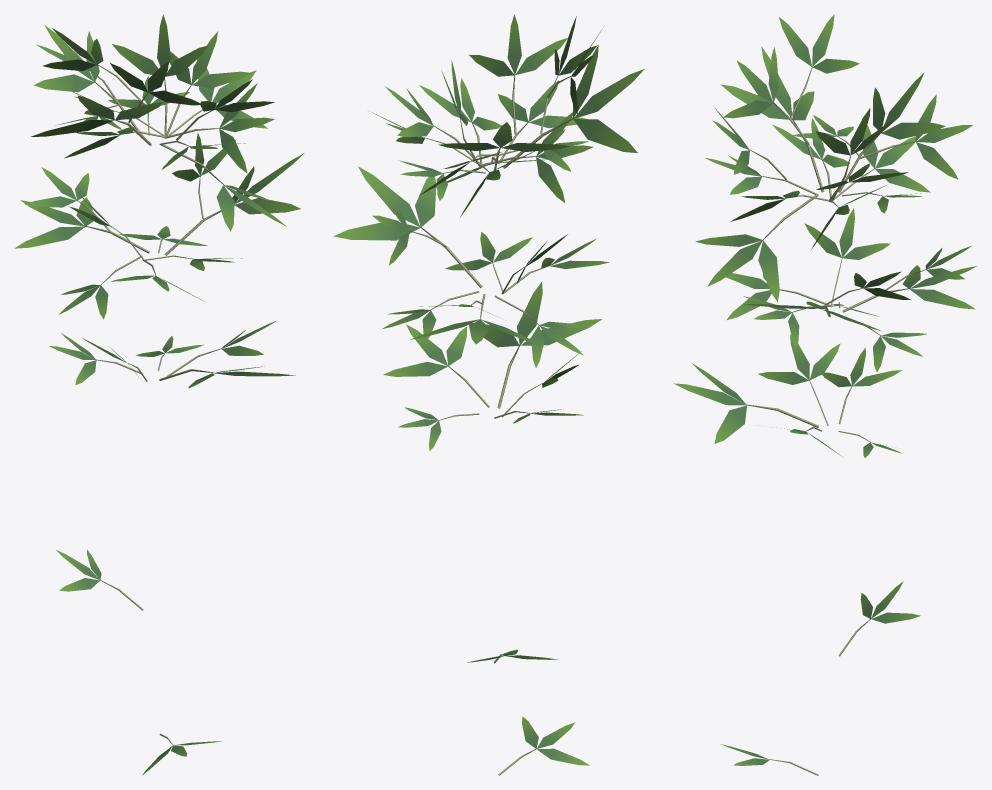
3 views of the same model, side by side, from view 1: azimuth 30°, elevation 25°; view 2: azimuth 150°, elevation 25°; view 3: azimuth 270°, elevation 25° (orthographic). The views are drawn at different scales.
Visible parts, largest first — view 1: plant.004; view 2: plant.004; view 3: plant.004.
Part boxes in pixels (x1,y1,x2,y2): plant.004: (14,14,304,775); plant.004: (333,14,644,775); plant.004: (673,14,976,775).
Bounding box in the file's own units: 0.1945 × 0.5 × 0.1915.
